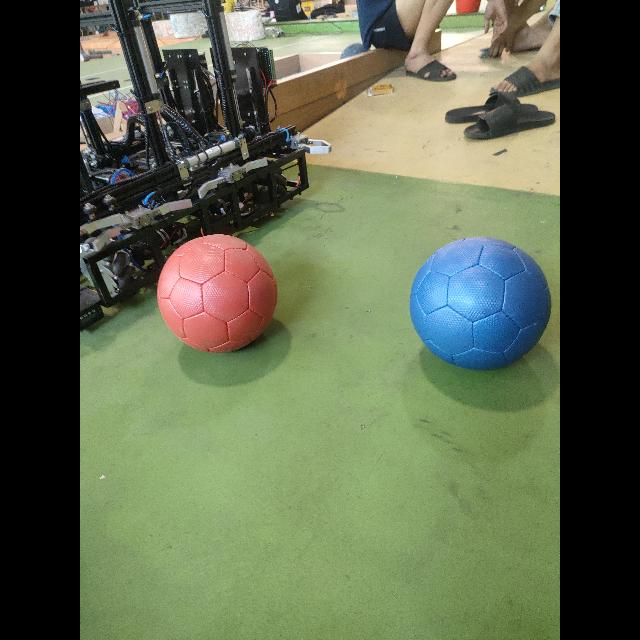B: (410, 238, 551, 369)
R: (158, 235, 278, 352)
